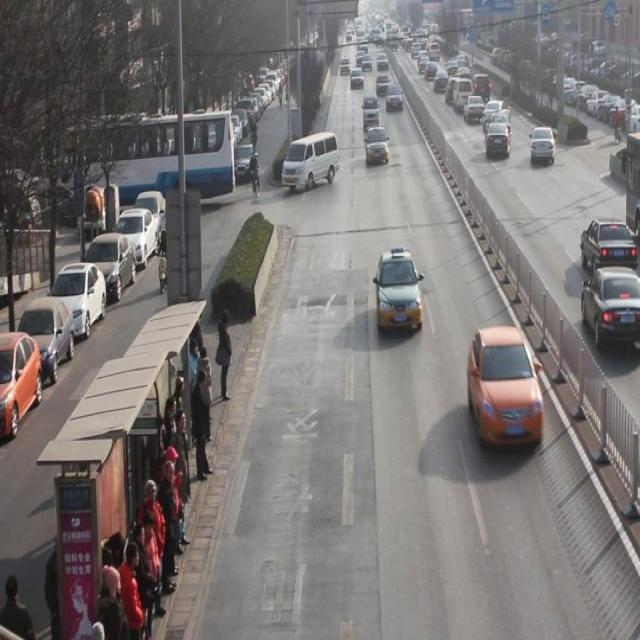car: (469, 326, 546, 451), (583, 265, 640, 347), (377, 250, 425, 331), (582, 216, 640, 280), (366, 124, 391, 165), (532, 126, 558, 164), (484, 99, 514, 131), (486, 112, 513, 146), (488, 121, 511, 158), (464, 93, 486, 123), (473, 71, 493, 104), (446, 75, 465, 105), (387, 84, 406, 112), (434, 68, 452, 92), (456, 66, 474, 89), (378, 73, 393, 98)
truck: (283, 132, 341, 192), (455, 76, 475, 112), (365, 90, 381, 132)
